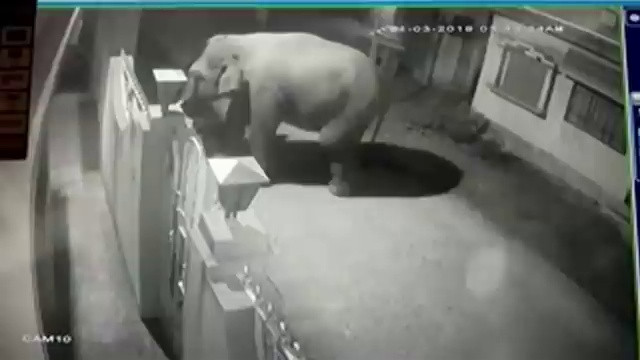Elephant: (178, 31, 388, 198)
